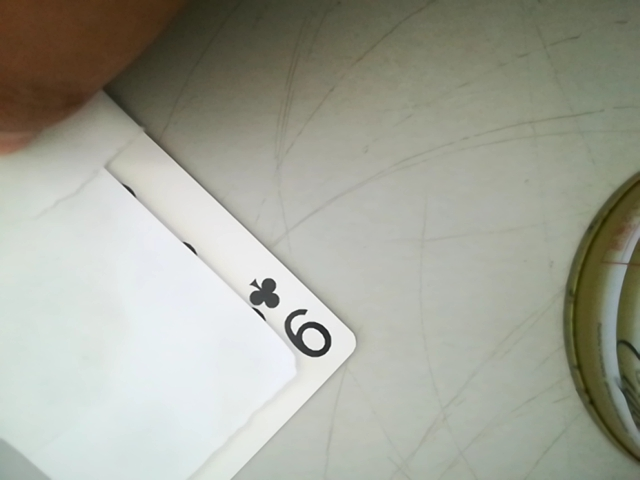mh 9: (233, 268, 341, 369)
